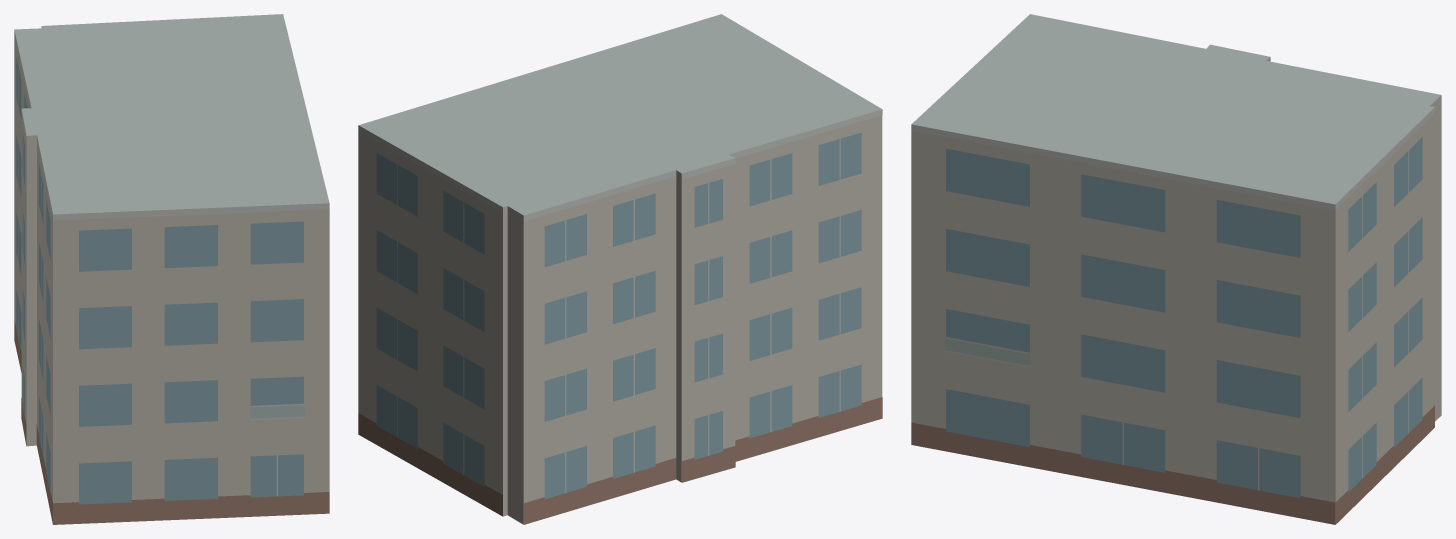
The model's file is survey-upis-32669295.glb.
3 renders of one model, left to right at view 1: azimuth 30°, elevation 25°; view 2: azimuth 150°, elevation 25°; view 3: azimuth 270°, elevation 25°, orthographic. The views are drawn at different scales.
Visible parts, largest first — view 1: survey-upis-32669295.tmp; view 2: survey-upis-32669295.tmp; view 3: survey-upis-32669295.tmp.
Part boxes in pixels (<box>): survey-upis-32669295.tmp: <box>14,14,329,524</box>; survey-upis-32669295.tmp: <box>358,14,882,524</box>; survey-upis-32669295.tmp: <box>911,14,1441,524</box>.
Bounding box in the file's own units: 16.07 × 12.6 × 18.91.
